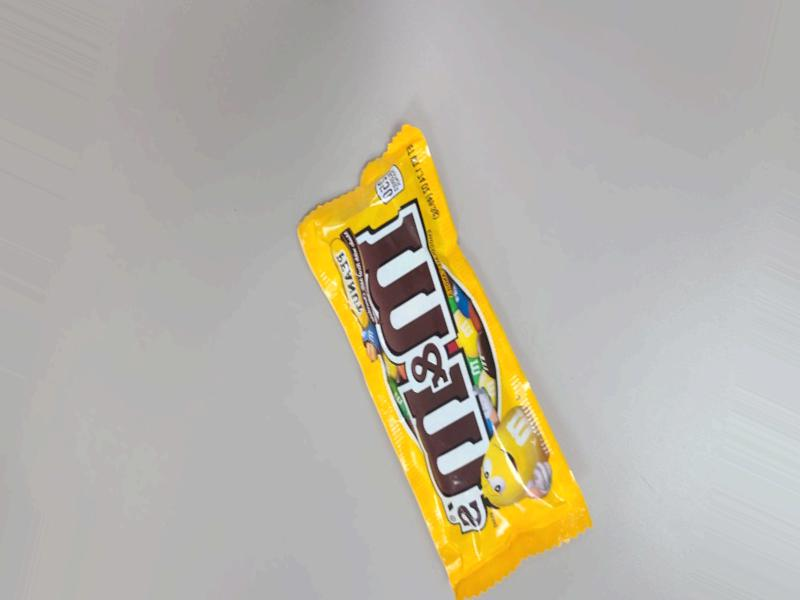m&m: (364, 141, 618, 600)
